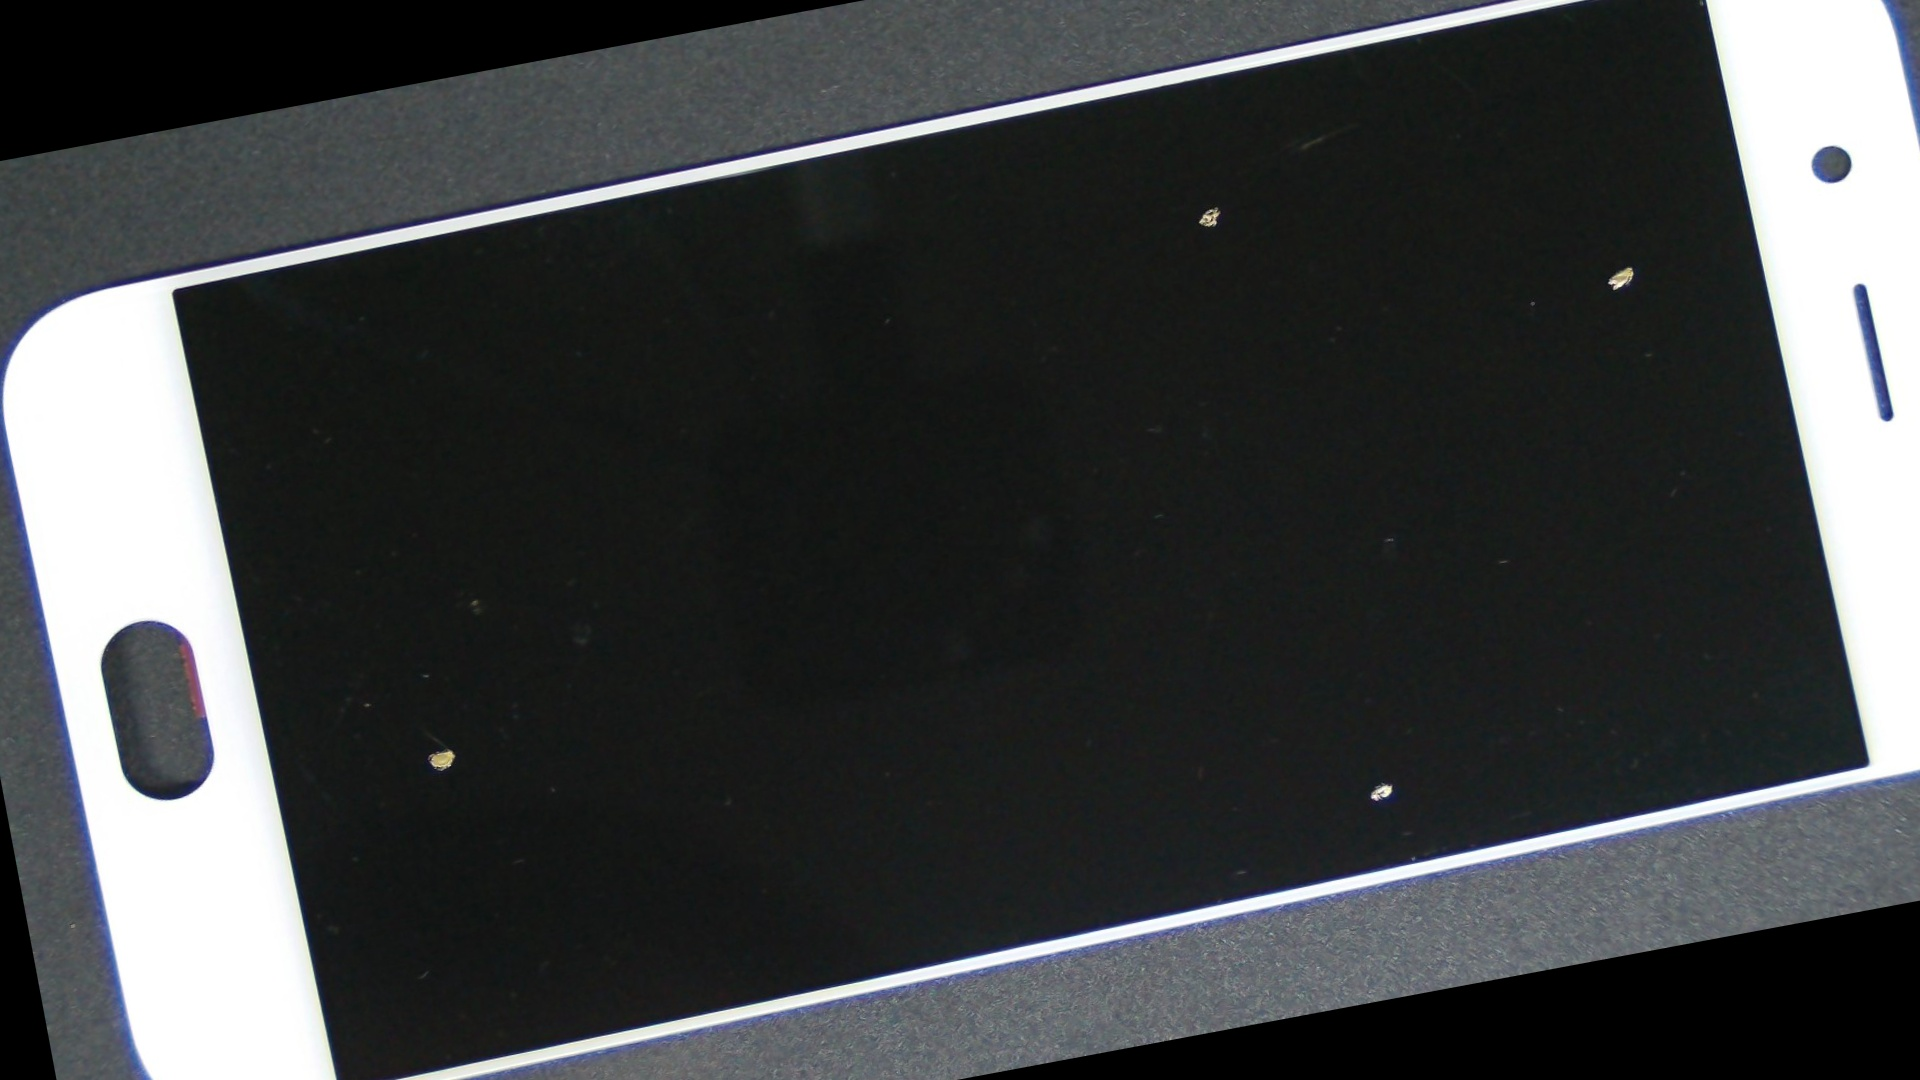oil: (637, 232, 1920, 1080), (760, 0, 1920, 617), (553, 0, 1878, 455), (162, 385, 702, 1080)
